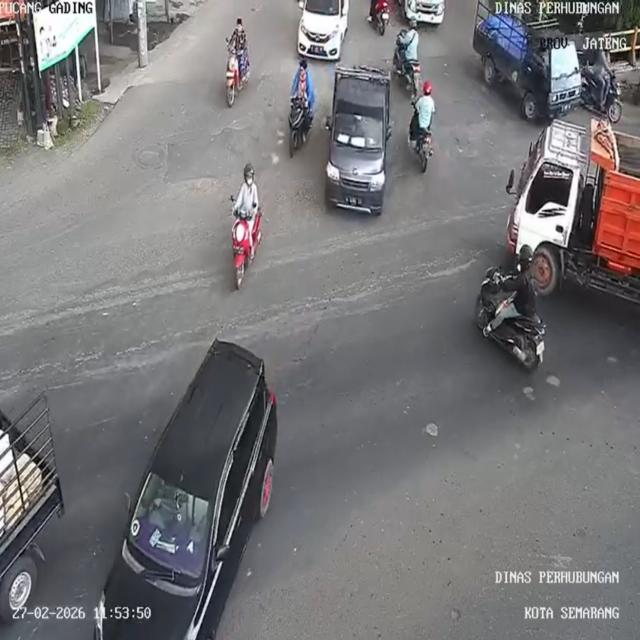motorcycle: (478, 269, 556, 381), (228, 204, 260, 284), (226, 48, 258, 106), (583, 78, 623, 123), (394, 34, 422, 92), (287, 92, 311, 156), (417, 127, 440, 178), (366, 0, 392, 33)
person: (500, 241, 542, 324), (234, 165, 268, 226), (290, 62, 318, 118), (412, 80, 436, 138), (404, 14, 422, 72), (227, 18, 252, 59), (589, 54, 613, 80)
rider_region: (473, 244, 548, 370), (225, 162, 267, 286), (286, 59, 319, 159), (585, 47, 626, 124), (224, 16, 252, 108), (411, 78, 439, 170), (398, 16, 426, 92)
